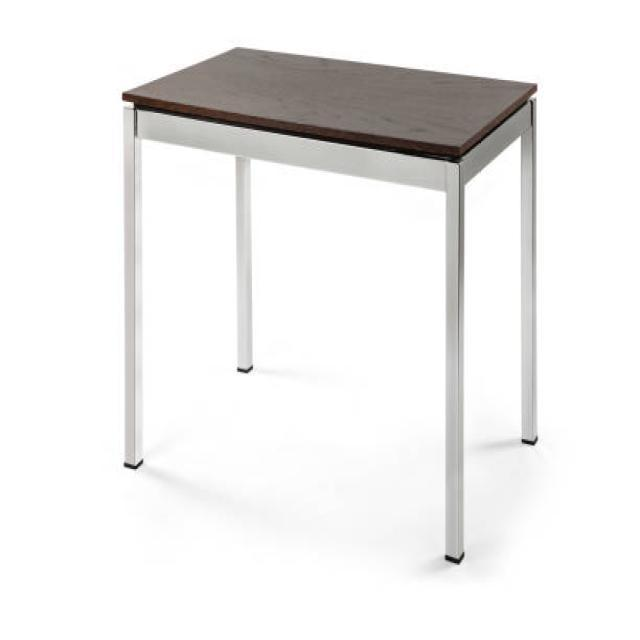table: (120, 44, 539, 563)
